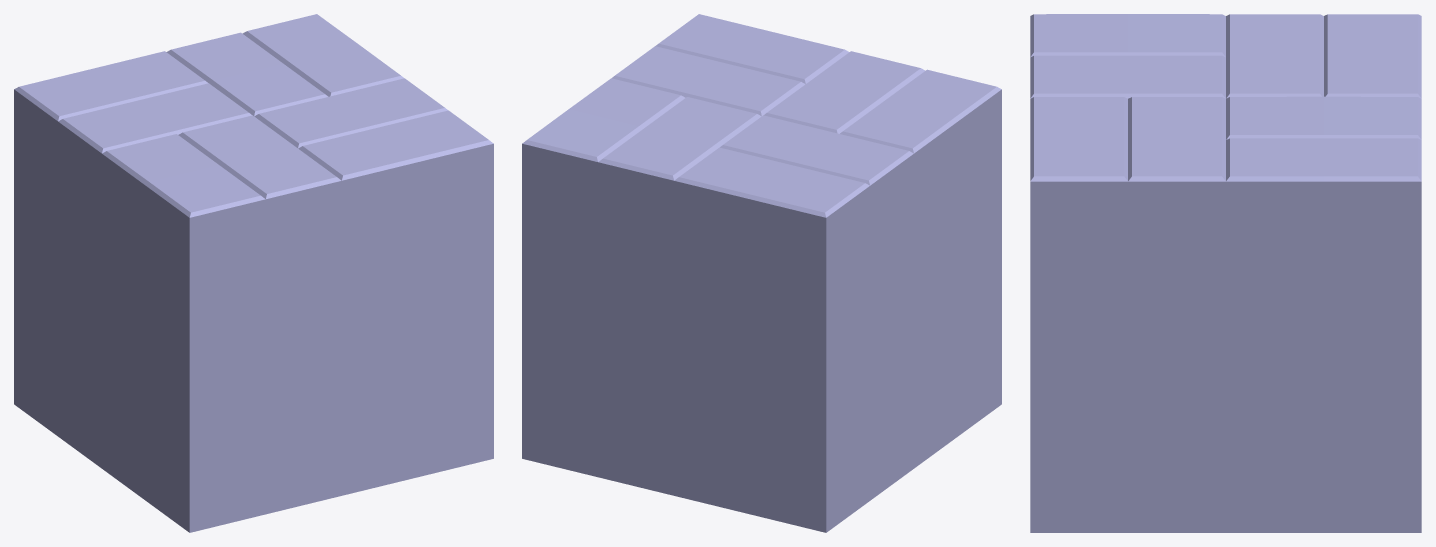
The model's file is Floor002.fbx.
3 views of the same model, side by side, from view 1: azimuth 30°, elevation 25°; view 2: azimuth 150°, elevation 25°; view 3: azimuth 270°, elevation 25° (orthographic). The views are drawn at different scales.
Visible parts, largest first — view 1: Cube; view 2: Cube; view 3: Cube.
Boxes of the visible parts, x1=… form: Cube: x1=14, y1=14, x2=493, y2=532; Cube: x1=522, y1=14, x2=1001, y2=532; Cube: x1=1030, y1=14, x2=1421, y2=532.
Size of the model in its own units: 100 by 100 by 100.
